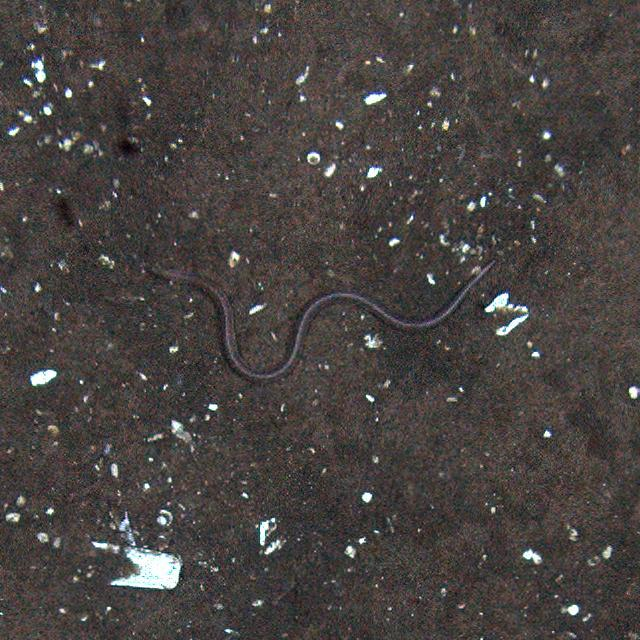eel: (149, 265, 507, 385)
